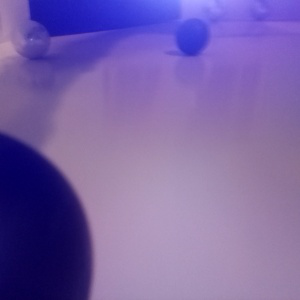alive_ball: (11, 20, 50, 59)
dead_ball: (1, 130, 92, 300), (175, 18, 209, 56)
